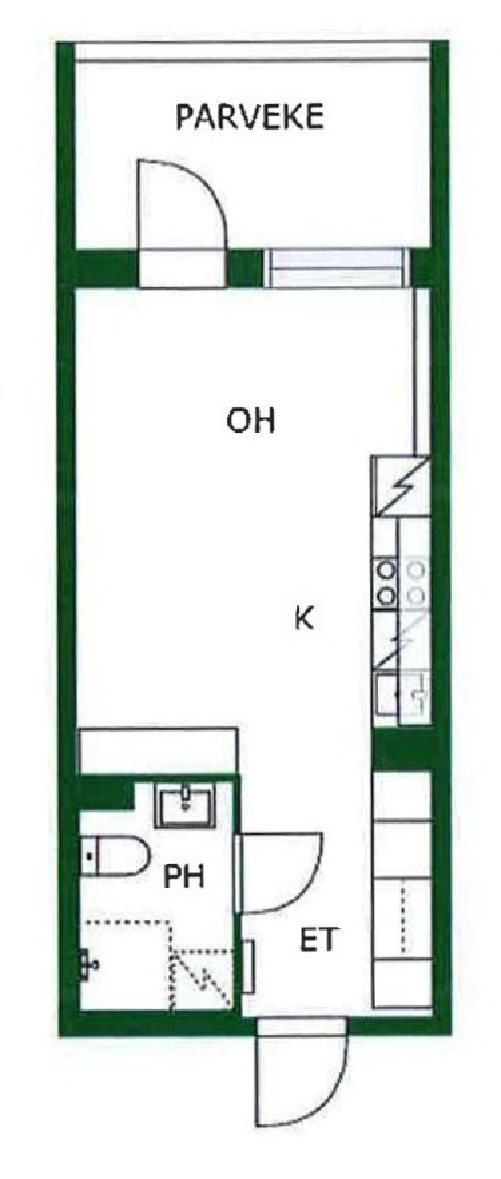door: (75, 283, 434, 1017), (75, 62, 432, 249), (82, 783, 236, 1016)
window: (132, 159, 230, 292), (251, 1010, 354, 1124), (231, 832, 329, 916)
zone: (263, 246, 410, 289)
